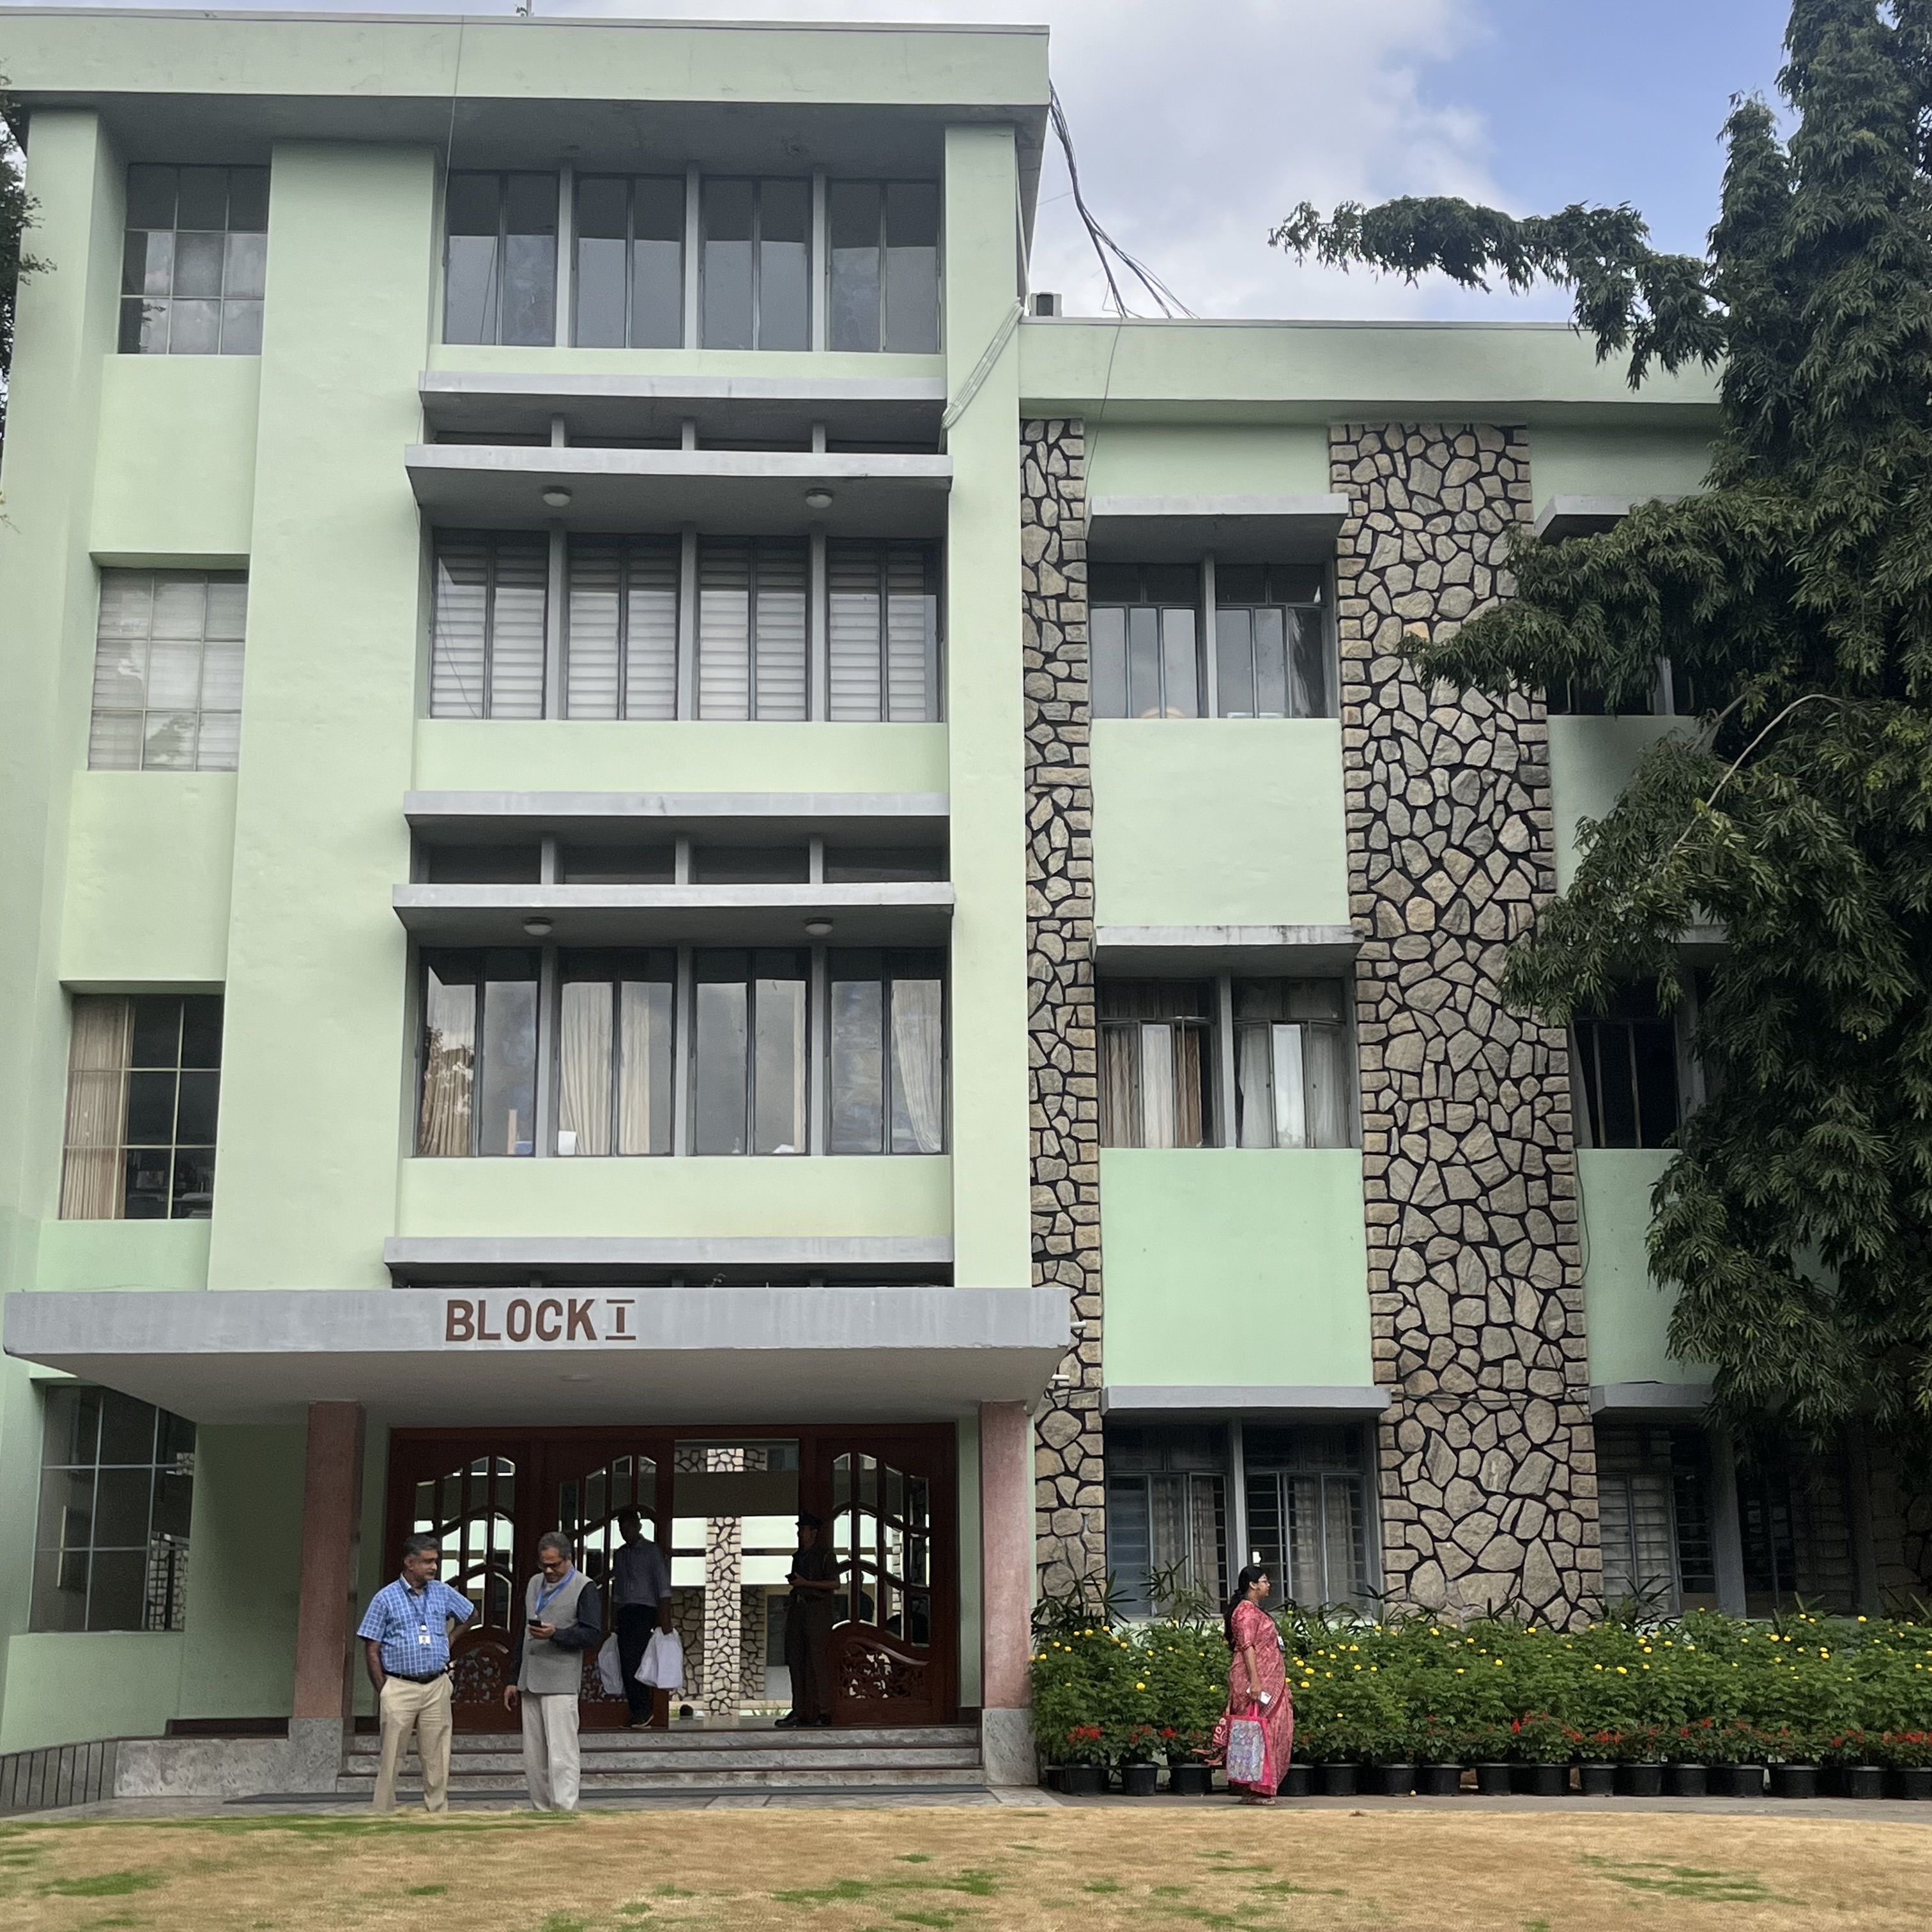Block 1: (14, 9, 1709, 1690)
